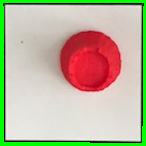Red Castle: (59, 27, 124, 96)
